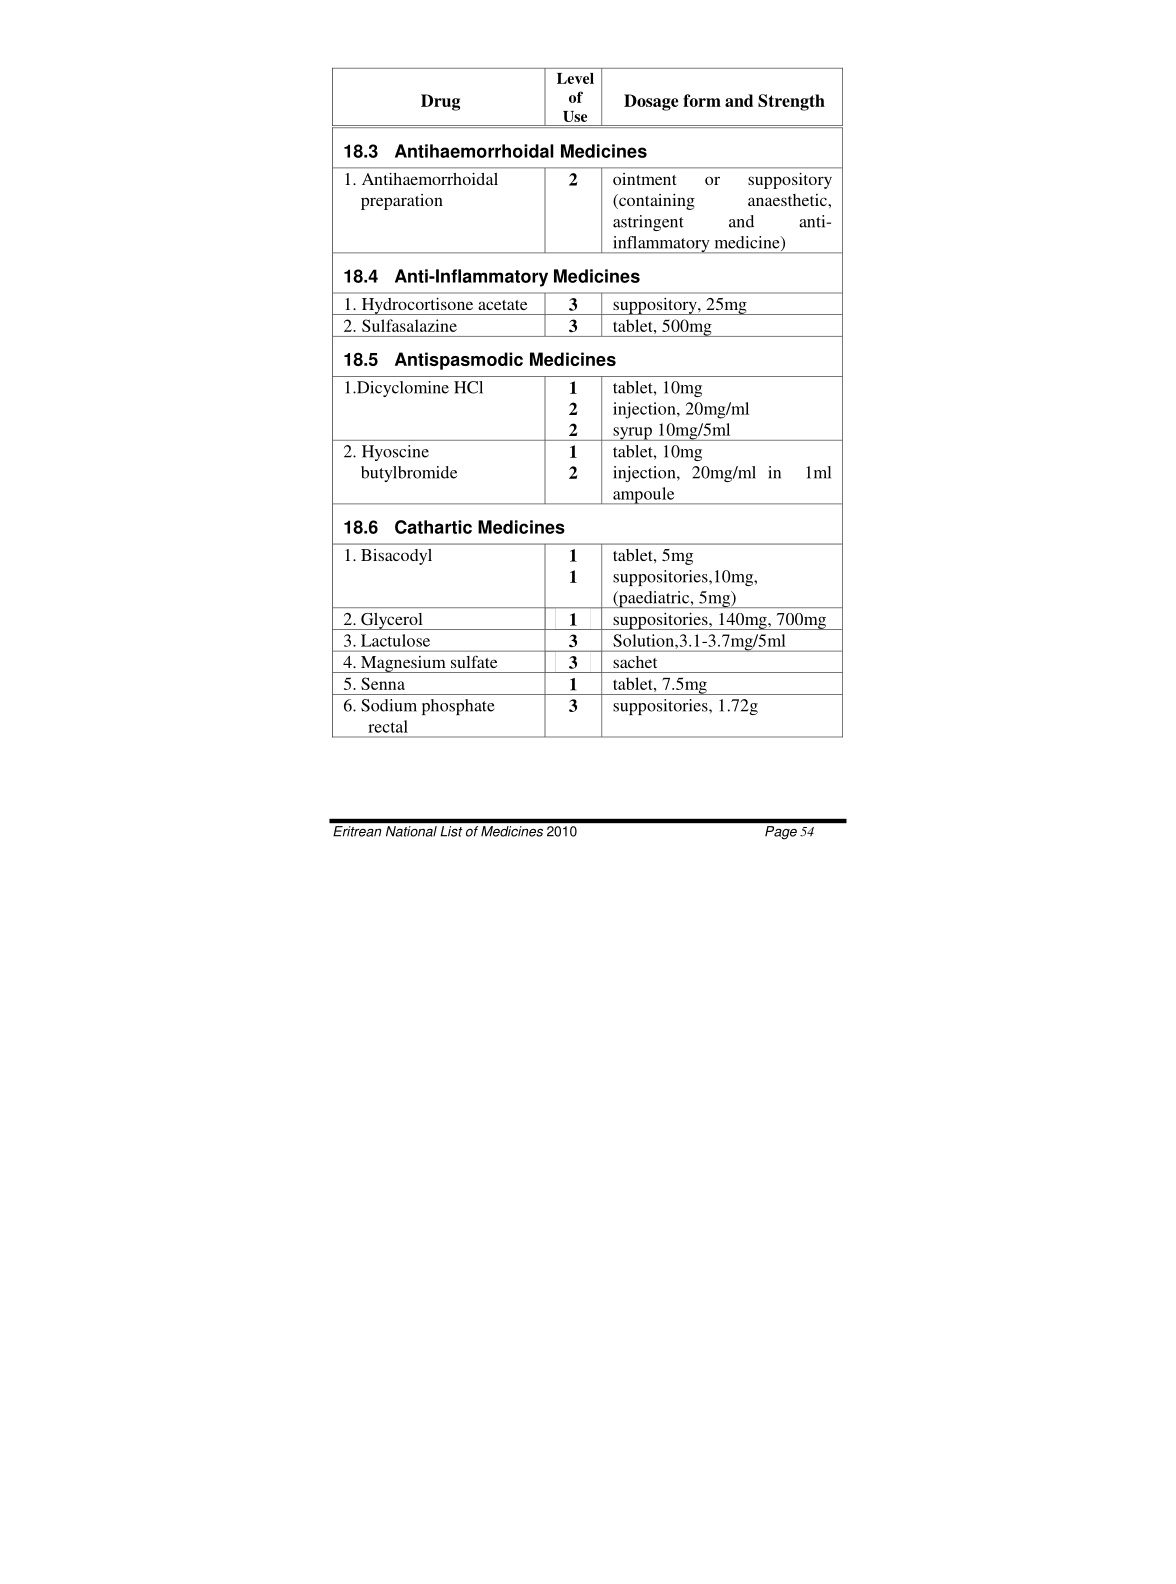merged_cells: (330, 67, 844, 739)
